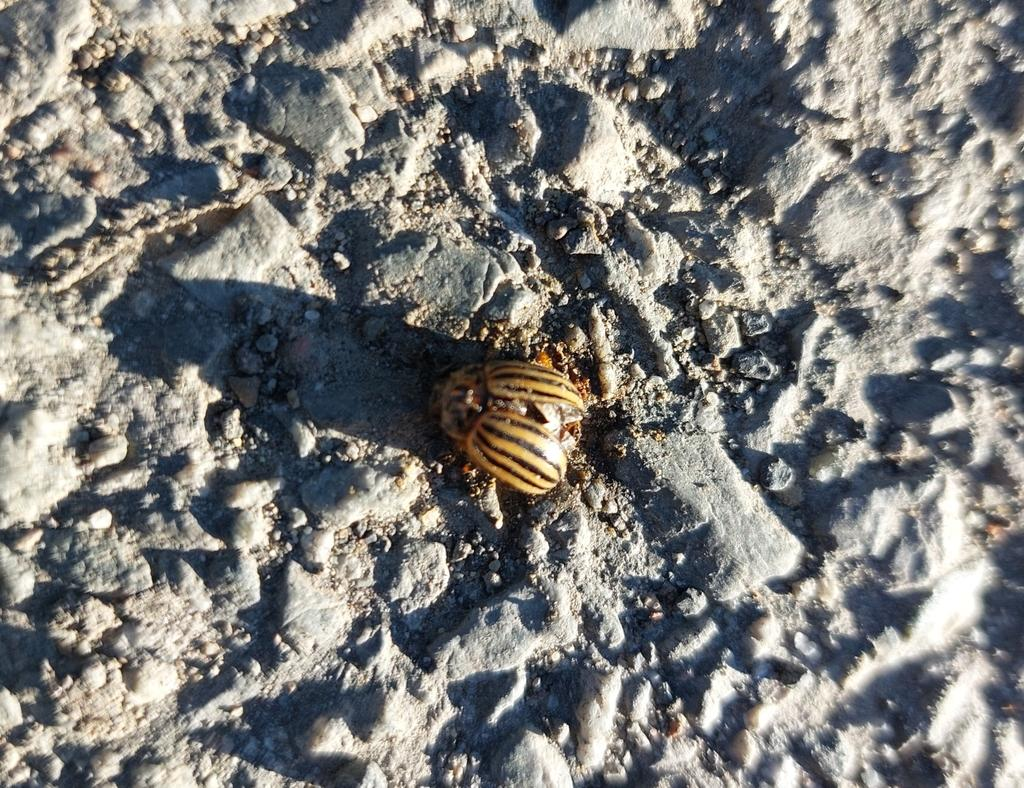potato_beetle: (398, 308, 612, 534)
